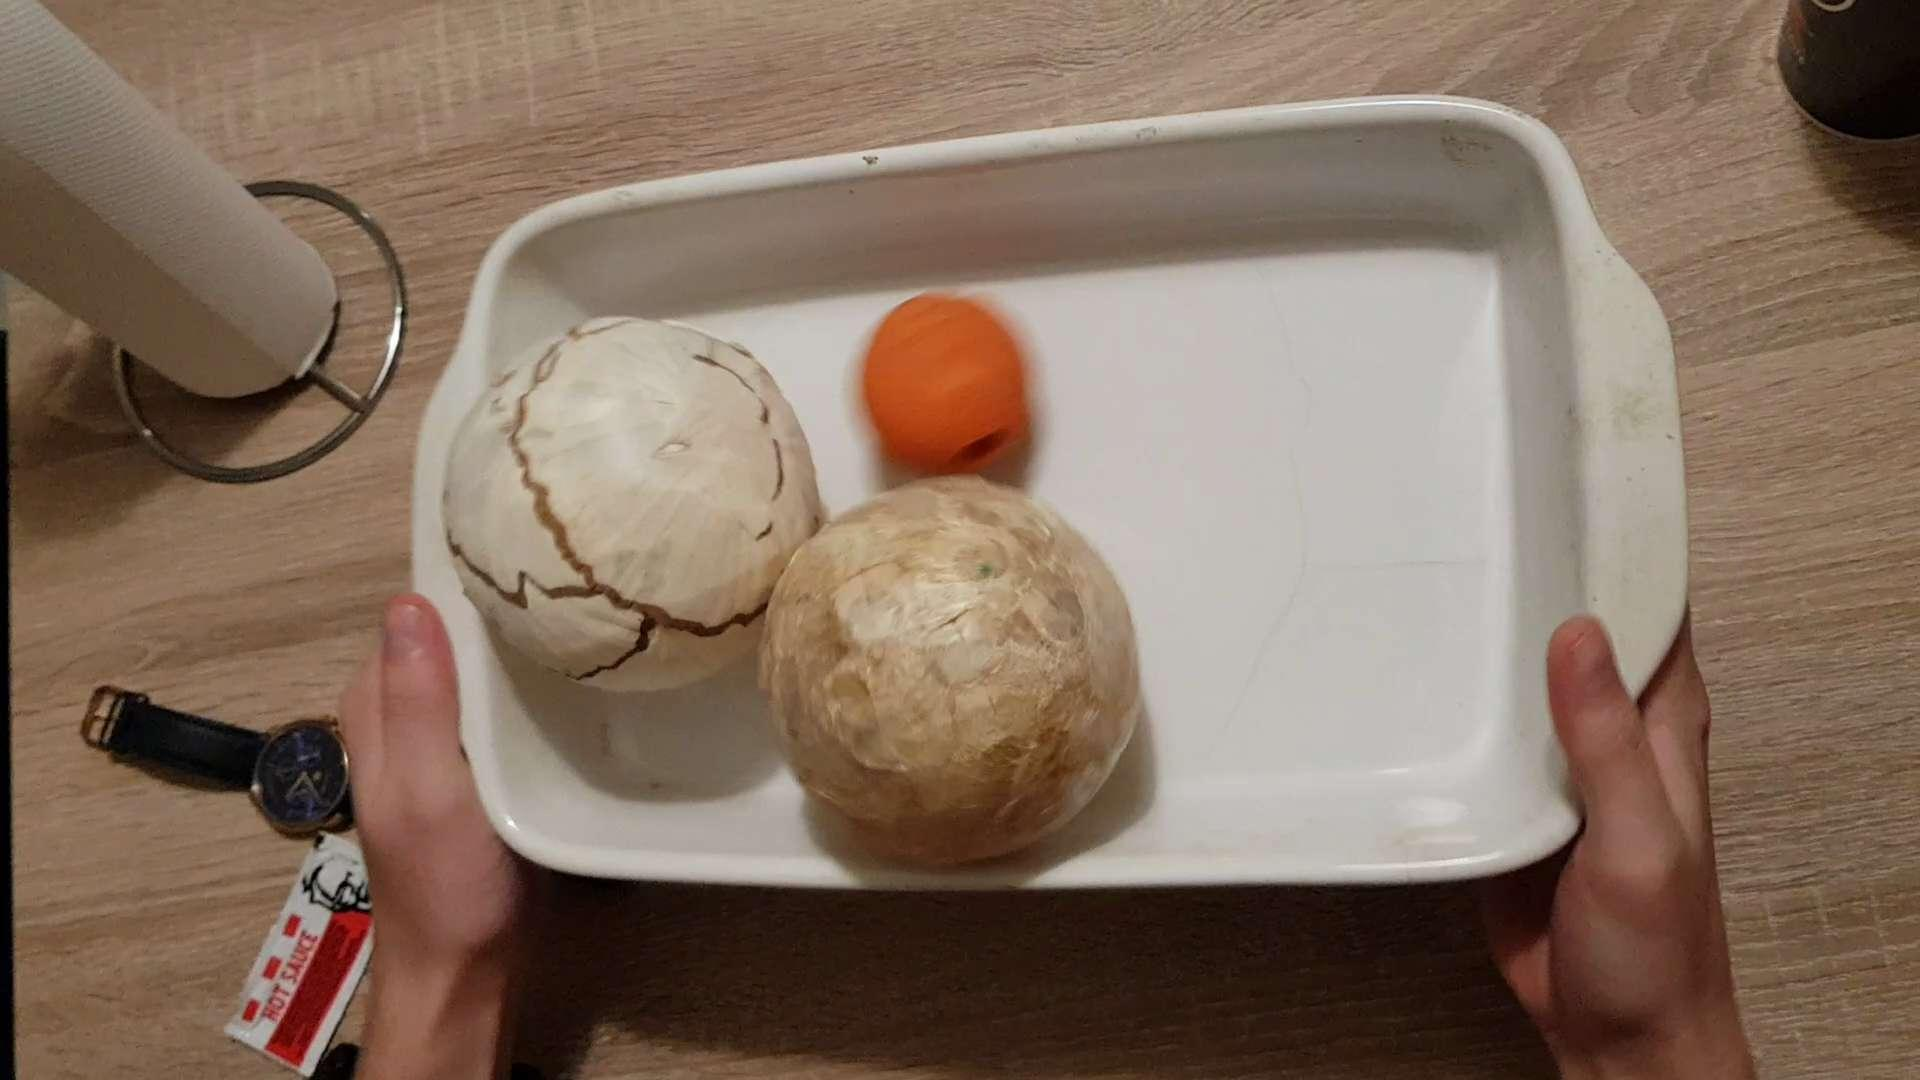sphere: (447, 313, 833, 695), (765, 469, 1139, 855)
